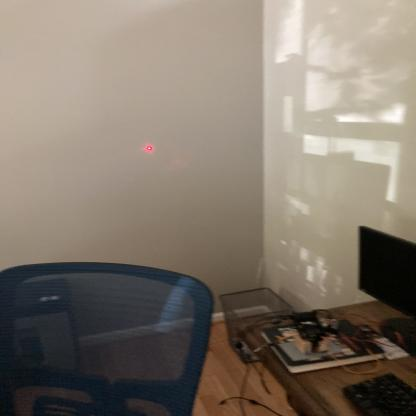target: (142, 143, 156, 152)
